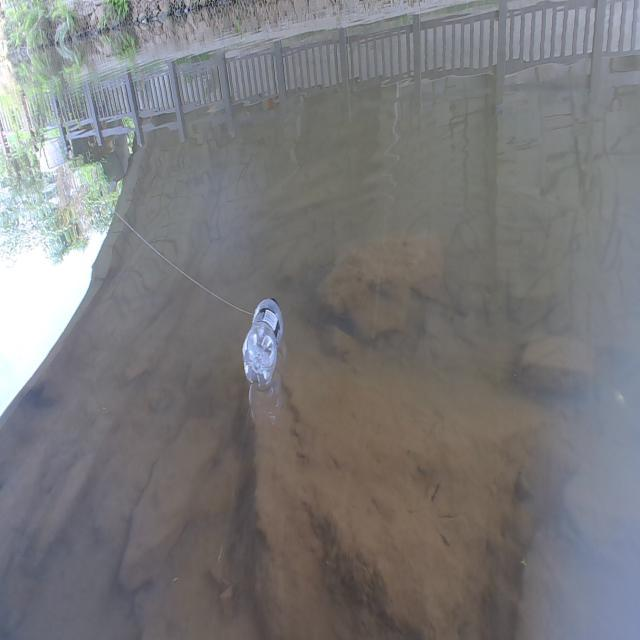garbage: (241, 296, 283, 390)
